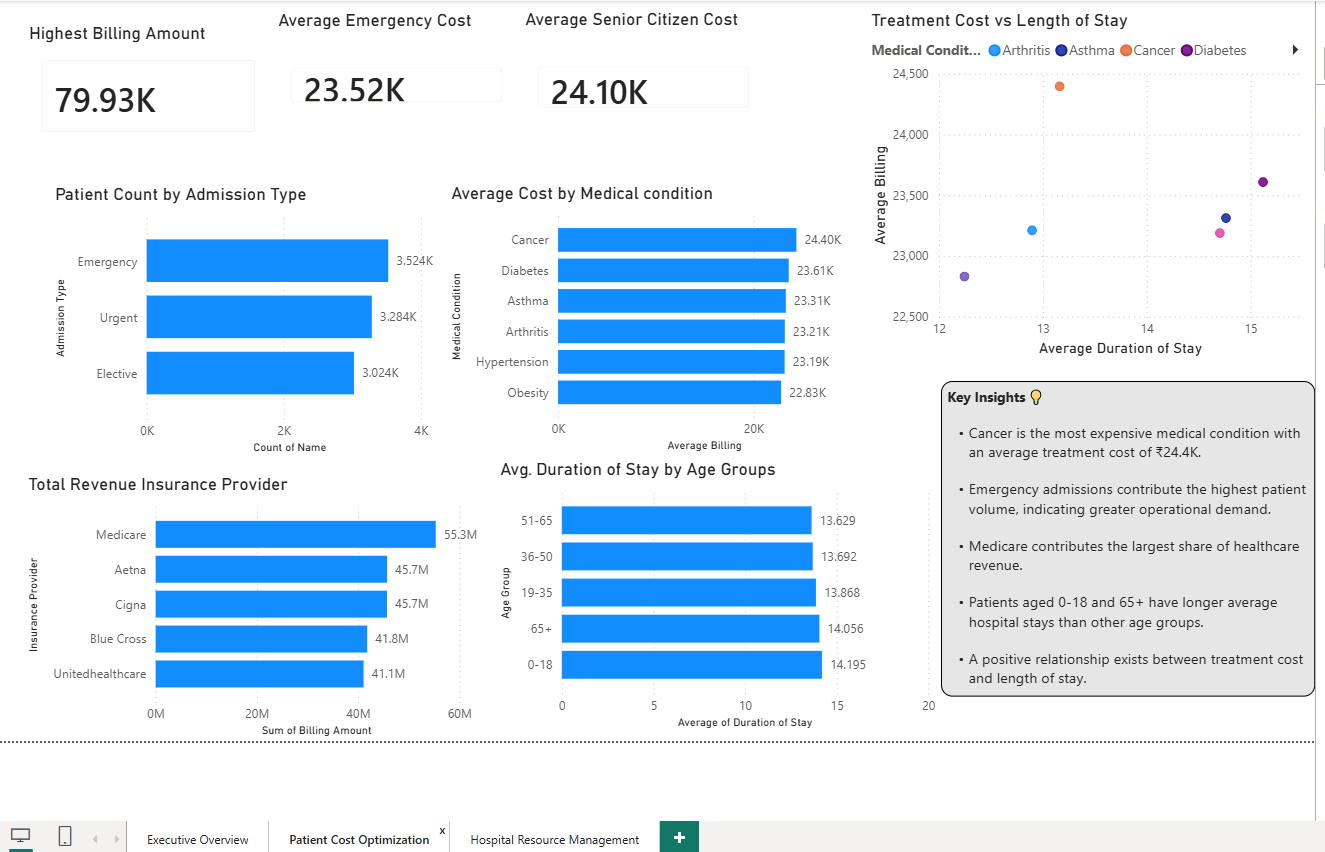

This screenshot's page, from the dashboard's own definition file:
{"tool":"powerbi","page":{"name":"Patient Cost Optimization","canvas":[1280,720],"ordinal":1},"visuals":[{"type":"barChart","title":"Patient Count by Admission Type","fields":{"Category":["Healthcare_Data_v1.Admission Type"],"Y":["CountNonNull(Healthcare_Data_v1.Name)"]},"box":[49.6,178.2,384.8,266.8],"z":0},{"type":"barChart","title":"Total Revenue Insurance Provider","fields":{"Y":["Sum(Healthcare_Data_v1. Billing Amount )"],"Category":["Healthcare_Data_v1.Insurance Provider"]},"box":[23.7,460.4,459.4,260.1],"z":1000},{"type":"barChart","title":"Average Cost by Medical condition","fields":{"Category":["Healthcare_Data_v1.Medical Condition"],"Y":["Healthcare_Data_v1.Average Billing"]},"box":[434.4,177.1,409.1,265.7],"z":2000},{"type":"barChart","title":"Avg. Duration of Stay by Age Groups","fields":{"Category":["Healthcare_Data_v1.Age Group"],"Y":["Avg(Healthcare_Data_v1.Duration of Stay)"]},"box":[482.5,445.5,433.5,266.7],"z":3000},{"type":"cardVisual","title":"Highest Billing Amount","fields":{"Data":["Max(Healthcare_Data_v1. Billing Amount )"]},"box":[24.3,21.1,242.5,123.4],"z":4000},{"type":"cardVisual","title":"Average Emergency Cost","fields":{"Data":["Healthcare_Data_v1.Average Billing"],"Rows":["Healthcare_Data_v1.Admission Type"]},"box":[266.8,8.4,240.4,160.3],"z":6000},{"type":"cardVisual","title":"Average Senior Citizen Cost","fields":{"Rows":["Healthcare_Data_v1.Age Group"],"Data":["Healthcare_Data_v1.Average Billing"]},"box":[507.1,7.4,240.4,169.8],"z":7000},{"type":"scatterChart","title":"Treatment Cost vs Length of Stay","fields":{"X":["Healthcare_Data_v1.Average Duration of Stay"],"Y":["Healthcare_Data_v1.Average Billing"],"Series":["Healthcare_Data_v1.Medical Condition"]},"box":[843.5,8.4,436.5,341.6],"z":8000},{"type":"textbox","box":[916.2,370.1,363.8,306.8],"z":9000}]}

Visuals, with their boxes on the page's 1280x720 design canvas (x1, y1, x2, y2). These are canvas units, not pixel positions in the 1325x852 screenshot, which may show the page scaled, cropped or inside an application window:
"Patient Count by Admission Type" barChart: (left=50, top=178, right=434, bottom=445)
"Total Revenue Insurance Provider" barChart: (left=24, top=460, right=483, bottom=720)
"Average Cost by Medical condition" barChart: (left=434, top=177, right=844, bottom=443)
"Avg. Duration of Stay by Age Groups" barChart: (left=482, top=446, right=916, bottom=712)
"Highest Billing Amount" cardVisual: (left=24, top=21, right=267, bottom=144)
"Average Emergency Cost" cardVisual: (left=267, top=8, right=507, bottom=169)
"Average Senior Citizen Cost" cardVisual: (left=507, top=7, right=748, bottom=177)
"Treatment Cost vs Length of Stay" scatterChart: (left=844, top=8, right=1280, bottom=350)
textbox: (left=916, top=370, right=1280, bottom=677)
